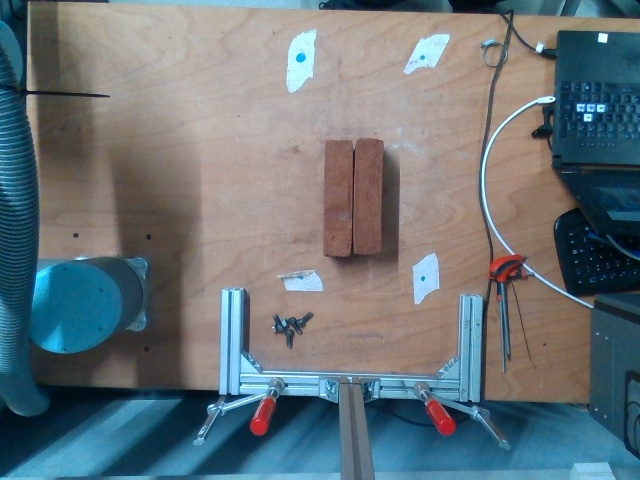brick-side: (324, 143, 351, 255), (354, 139, 381, 251)
